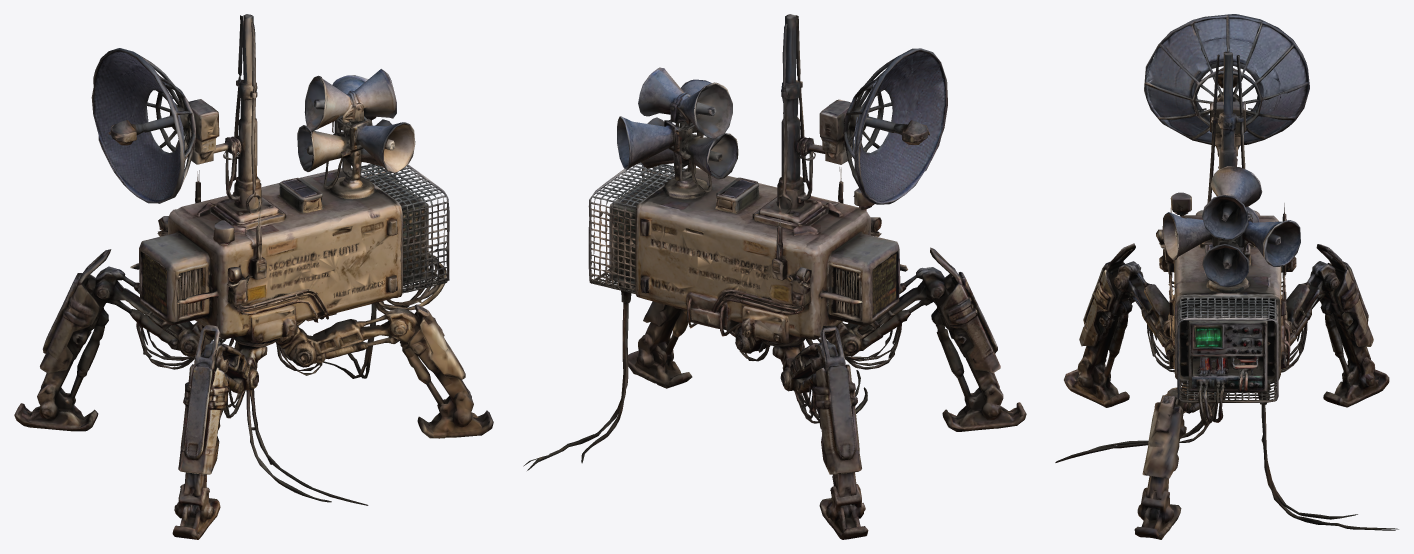
Rendered from screamer.glb.
3 renders of one model, left to right at view 1: azimuth 30°, elevation 25°; view 2: azimuth 150°, elevation 25°; view 3: azimuth 270°, elevation 25°, orthographic. The views are drawn at different scales.
Bounding box in the file's own units: 0.8519 × 0.9796 × 0.764.
Materials: 1 (1 with a texture image).
